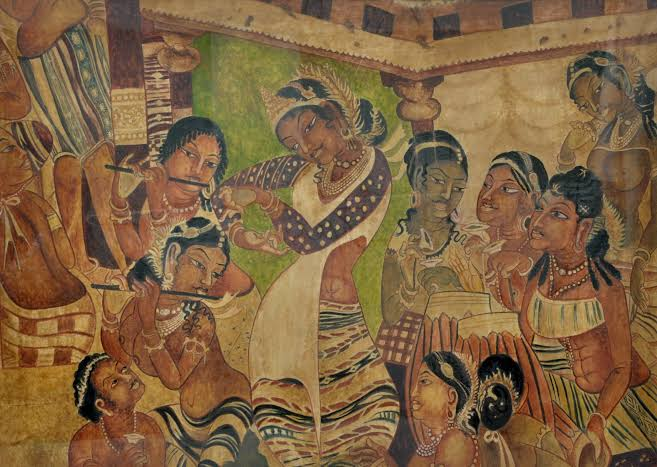Mahajanaka: (12, 1, 647, 457), (168, 60, 581, 457)
